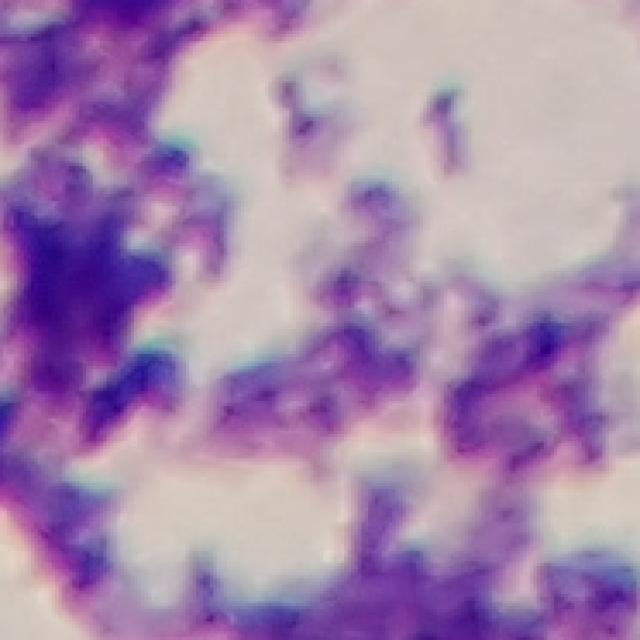non-sperm: (1, 159, 187, 449), (206, 307, 431, 466), (441, 298, 617, 480)
